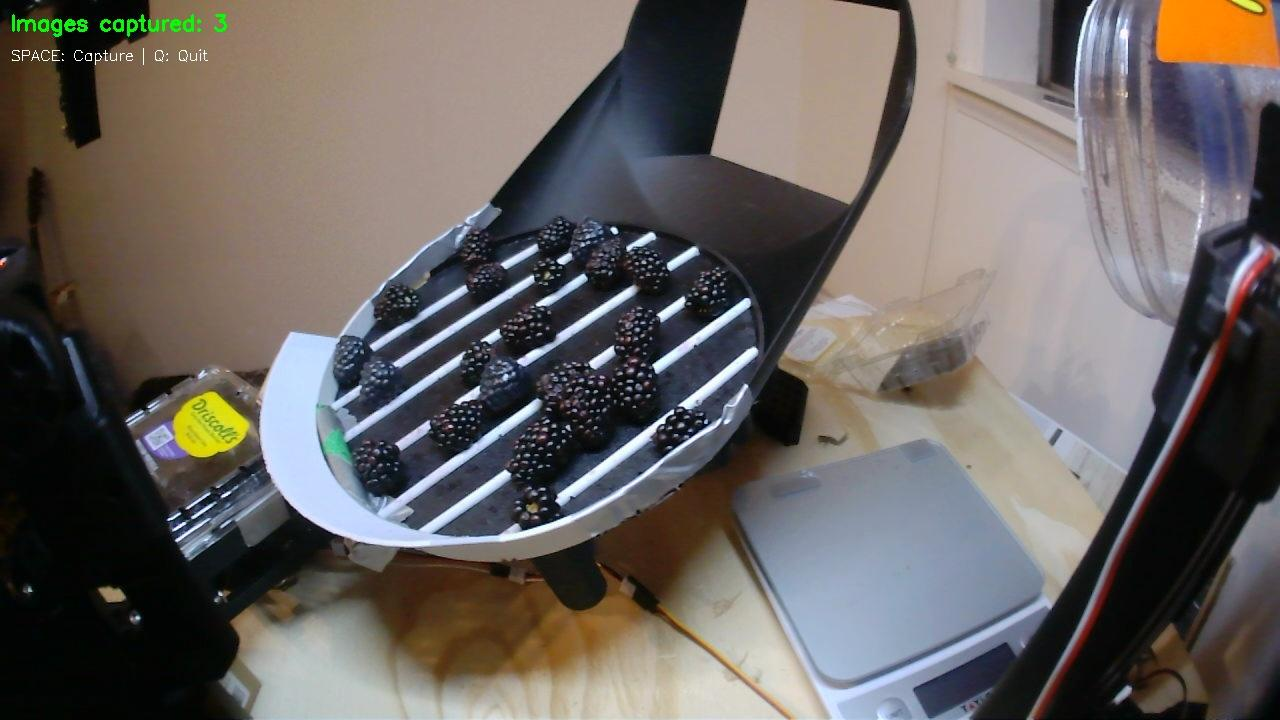berry: (505, 416, 575, 485), (561, 373, 615, 449), (352, 440, 407, 496), (478, 356, 531, 413), (612, 356, 657, 422), (499, 305, 555, 354), (357, 355, 404, 413), (651, 406, 708, 453), (428, 401, 482, 450), (544, 361, 592, 413), (614, 306, 660, 360), (569, 217, 617, 266), (685, 267, 731, 317), (623, 247, 670, 295), (373, 282, 420, 326), (512, 485, 560, 528), (332, 335, 371, 387), (585, 239, 623, 289), (466, 262, 507, 300), (537, 216, 575, 255), (457, 229, 495, 267), (460, 340, 491, 386), (532, 257, 566, 294)
